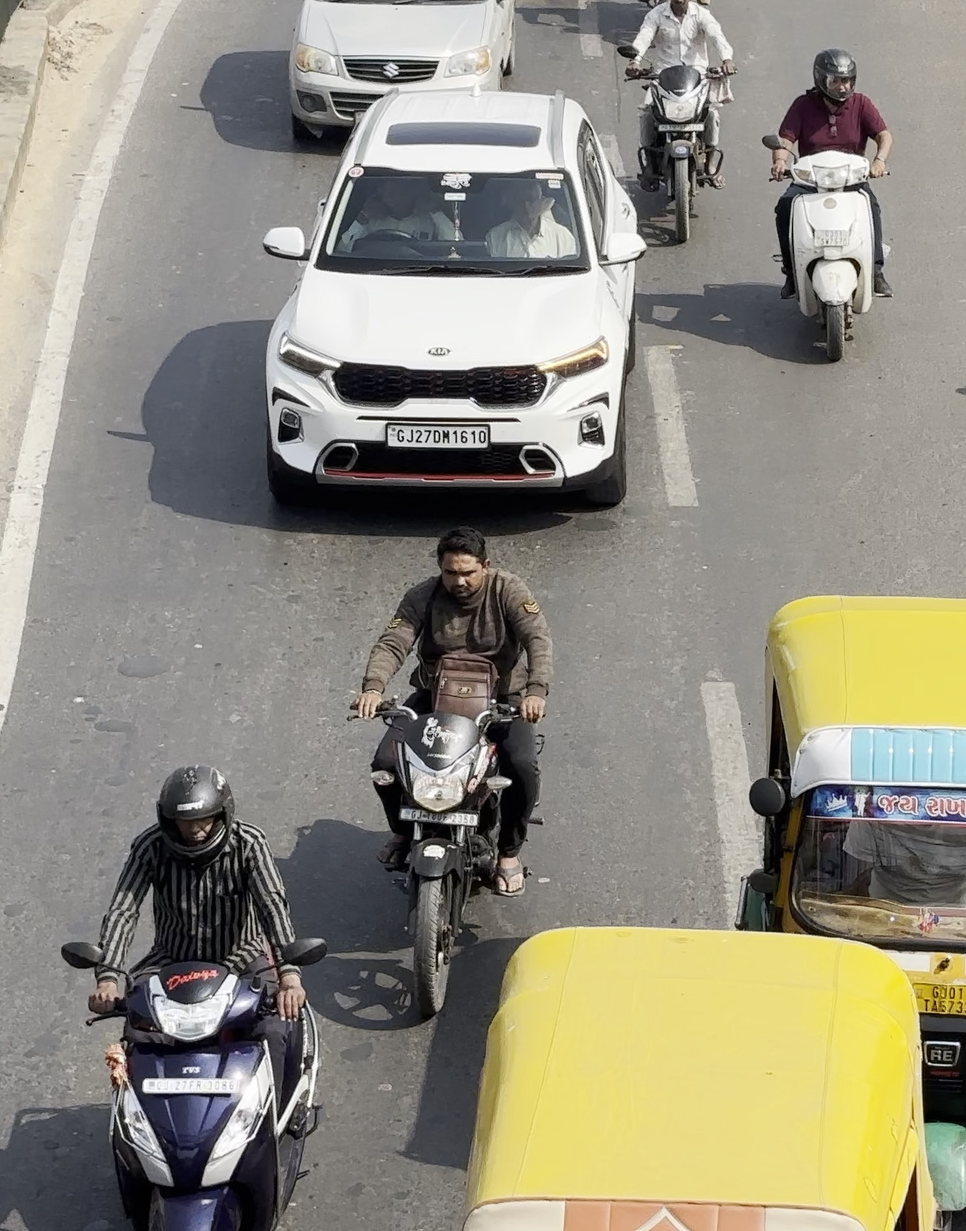BikeWithRider: (49, 751, 343, 1231), (328, 515, 570, 1026), (752, 42, 903, 369), (626, 0, 742, 253)
Helmet: (135, 755, 248, 879), (796, 39, 870, 113)
NoHelmet: (418, 519, 506, 603)
